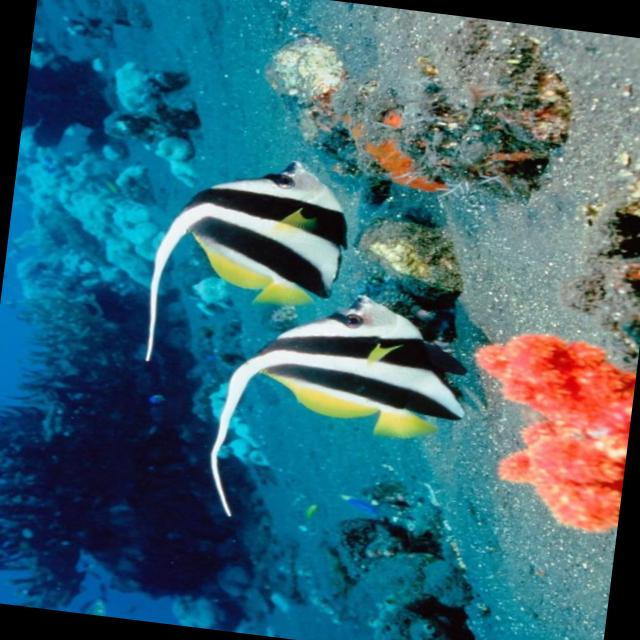AngelFish: (229, 278, 471, 442), (142, 143, 360, 304)
